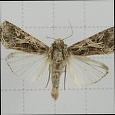Spodoptera litura: (1, 19, 115, 101)
